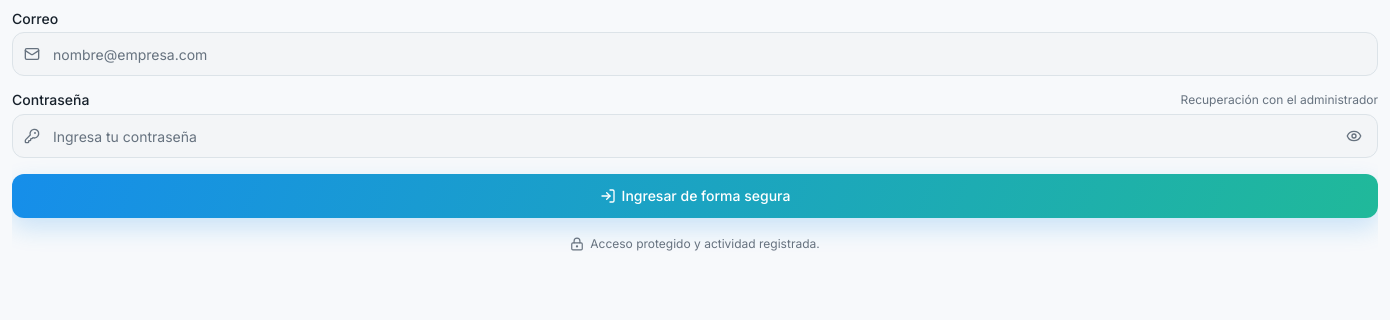
Scenario: LoginForm › valida correo y contraseña antes de enviarlos
Type "correo-invalido" into the field labelled "Correo" at (695, 54), box left=12, top=32, right=1378, bottom=76
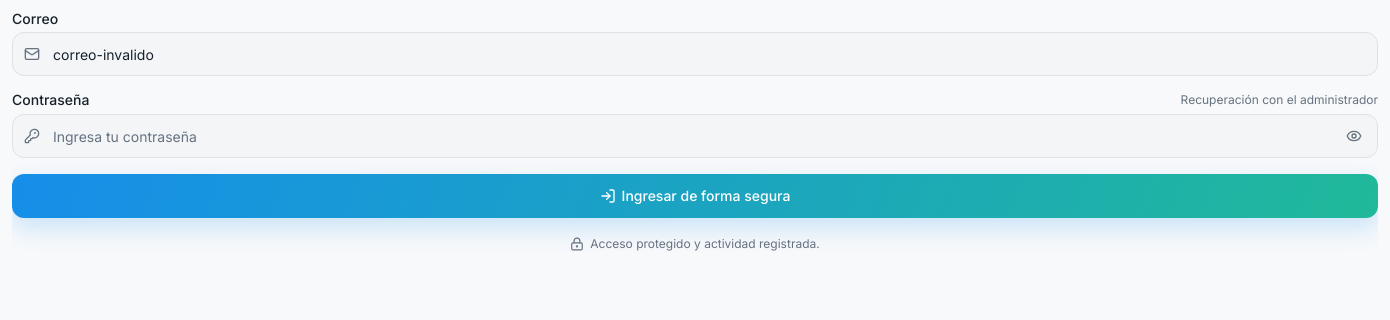
Type "1234" into the password field labelled "Contraseña" at (695, 136), box left=12, top=114, right=1378, bottom=158
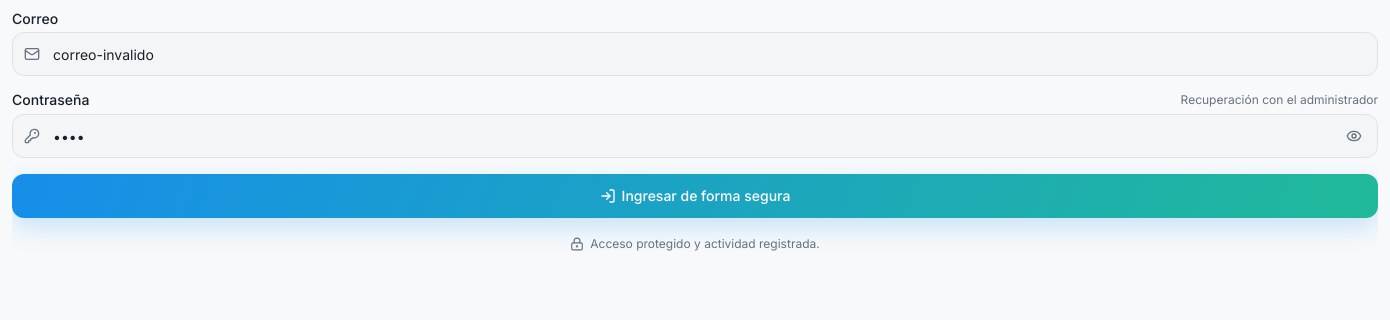
Click the button "Ingresar de forma segura" at (695, 196), box left=12, top=174, right=1378, bottom=218
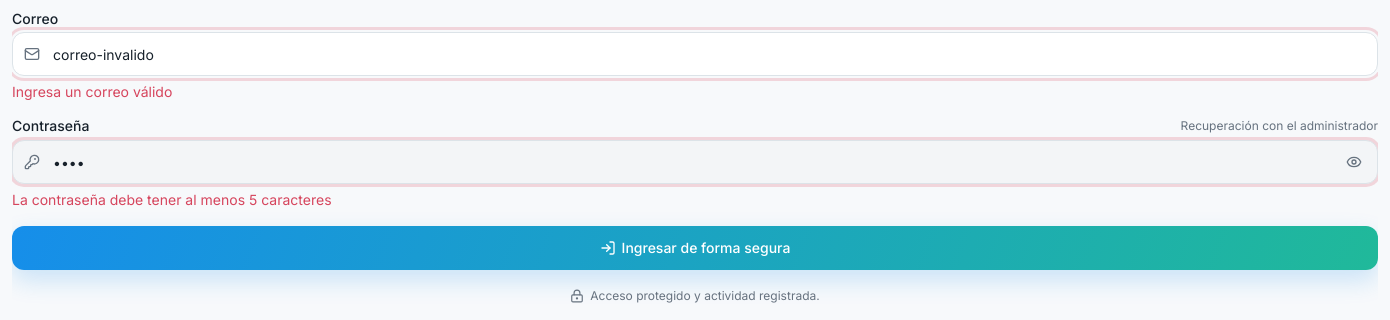
Expected: the text "Ingresa un correo válido" is shown, left=12, top=83, right=172, bottom=100
Expected: the text "La contraseña debe tener al menos 5 caracteres" is shown, left=12, top=191, right=332, bottom=208
